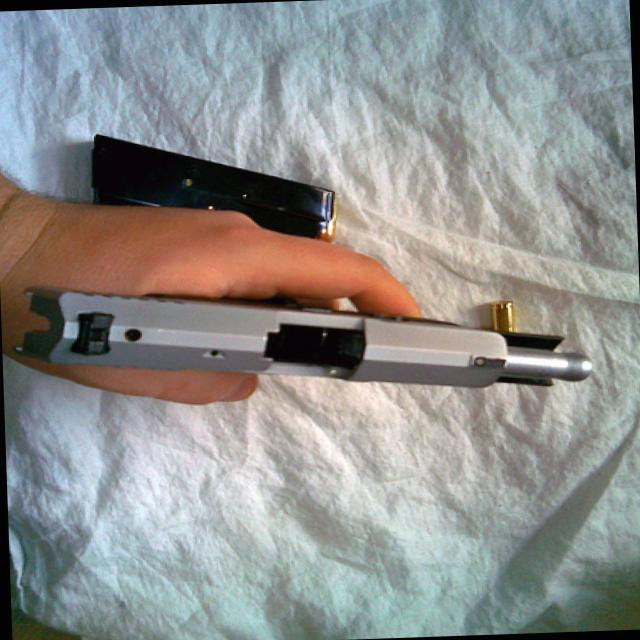handgun: (22, 264, 596, 405)
